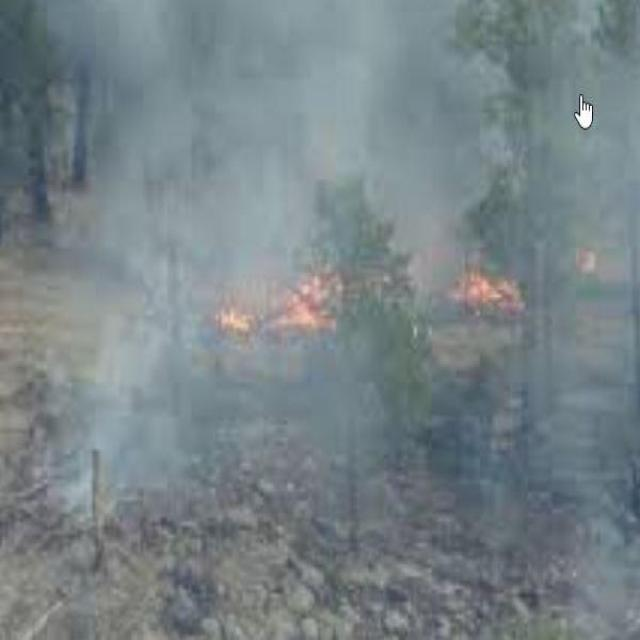Fire: (448, 218, 534, 322), (254, 260, 343, 342), (218, 295, 260, 338)
Smoke: (79, 350, 612, 528), (125, 35, 610, 209), (42, 32, 203, 400)
